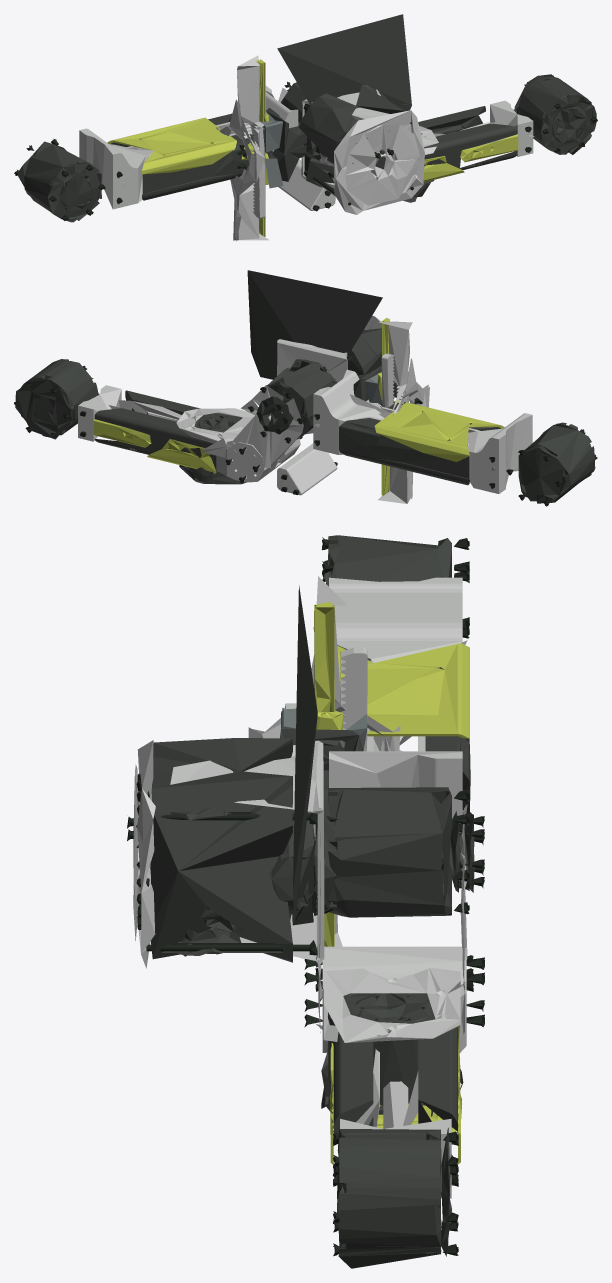
Rendered from rebot.glb.
3 renders of one model, top to bottom at view 1: azimuth 30°, elevation 25°; view 2: azimuth 150°, elevation 25°; view 3: azimuth 270°, elevation 25°, orthographic. The views are drawn at different scales.
Visible parts, largest first — view 1: base_link, link2, link3, end_link, finger_left_link, finger_right_link, link1, link4; view 2: link2, link3, base_link, link4, end_link, link1, finger_left_link, finger_right_link; view 3: link2, base_link, link3, link4, link1, end_link, link6, finger_left_link, finger_right_link.
Boxes of the visible parts, x1,y1,x2,y2 form: base_link: (277,14,424,214); link2: (14,81,306,222); link3: (278,74,597,211); end_link: (216,55,269,241); finger_left_link: (250,107,307,218); finger_right_link: (240,123,307,188); link1: (301,89,405,188); link4: (278,88,438,202); link2: (248,359,597,506); link3: (14,359,337,495); base_link: (247,270,394,398); link4: (176,385,313,484); end_link: (378,318,429,503); link1: (277,339,347,381); finger_left_link: (332,365,408,404); finger_right_link: (381,353,394,407); link2: (321,535,470,917); base_link: (127,585,317,968); link3: (304,812,484,1268); link4: (317,804,467,1114); link1: (170,740,324,964); end_link: (248,576,400,958); link6: (206,790,335,925); finger_left_link: (280,703,367,830); finger_right_link: (314,647,367,861).
Size of the model in its own units: 0.5648 by 0.1888 by 0.1586.
